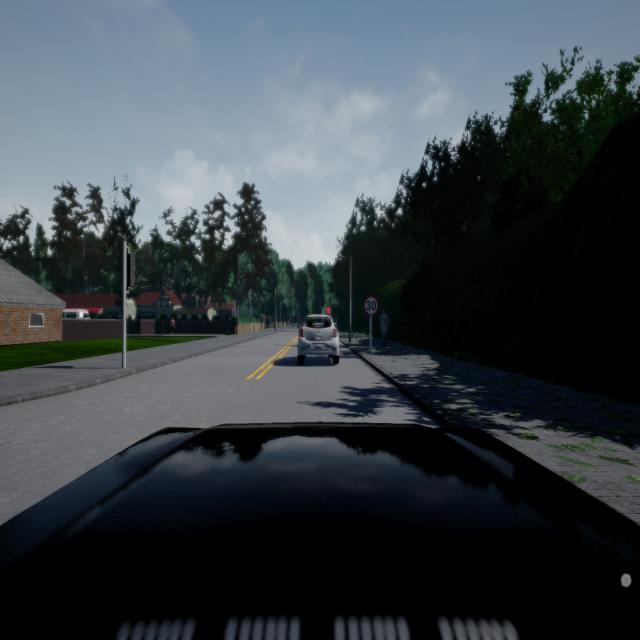Speed Limit -30-: (364, 296, 378, 315)
